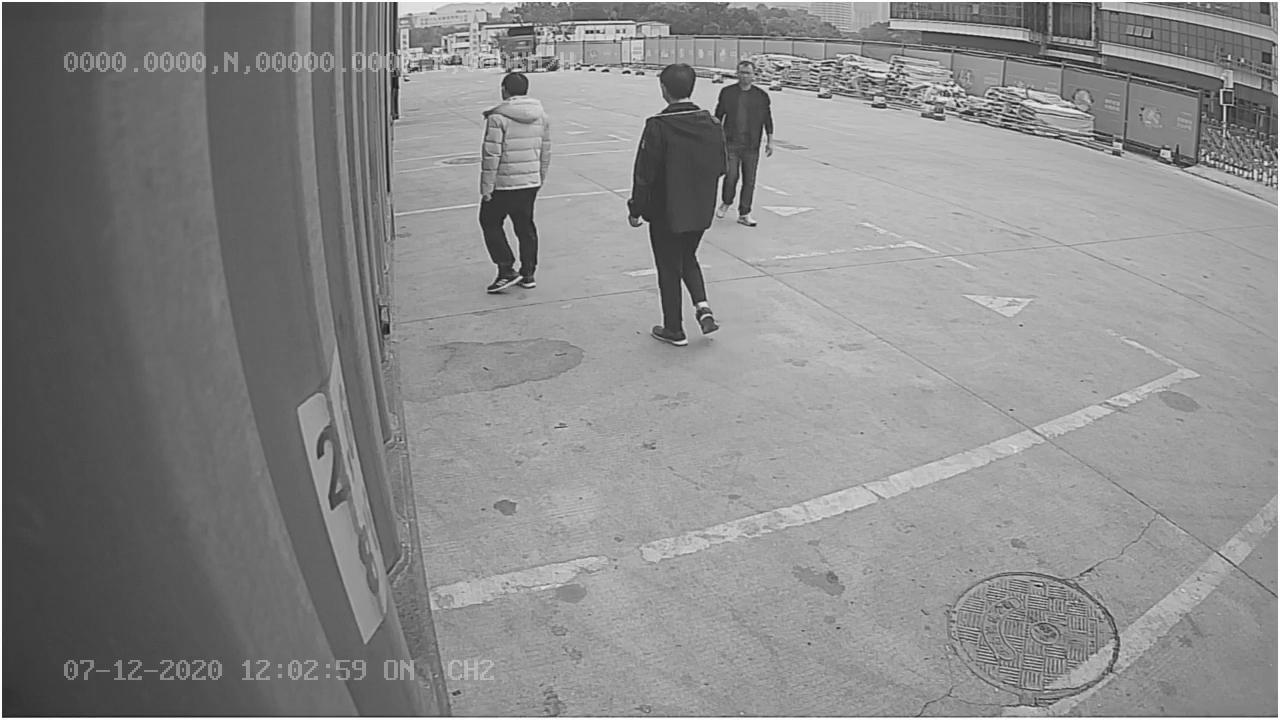person: (479, 63, 552, 301)
